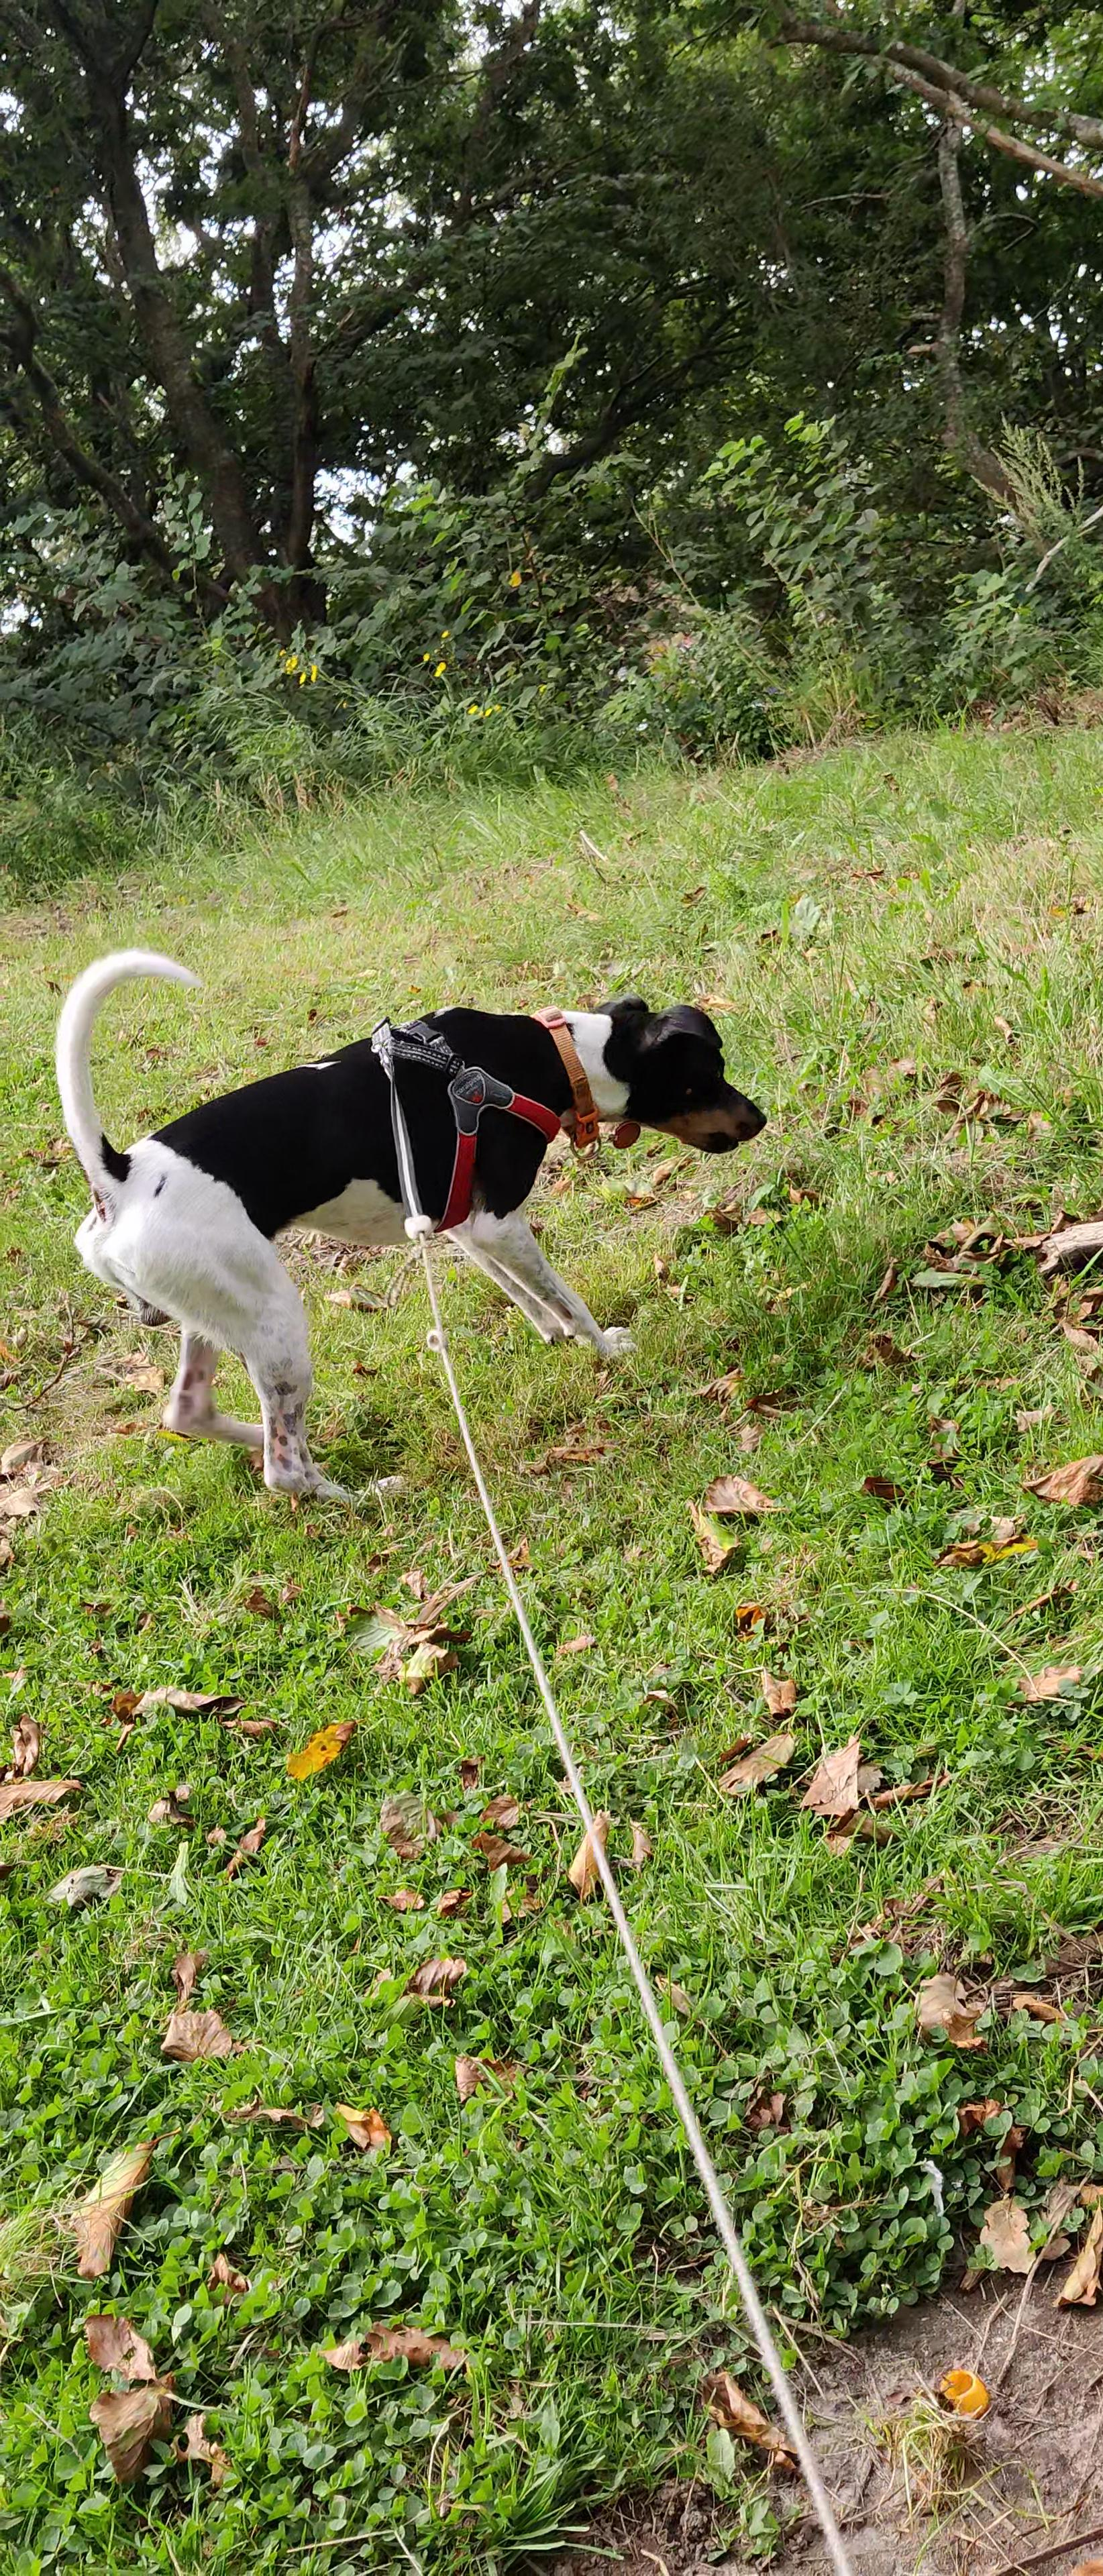Dog: (48, 941, 771, 1513)
